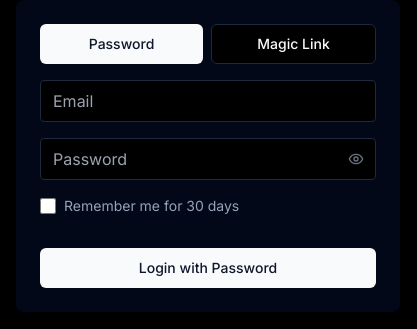
Test: Login › switches to the magic link form when the "Magic Link" button is clicked
Click the button "Magic Link".
click(294, 44)  # box [211, 24, 376, 64]
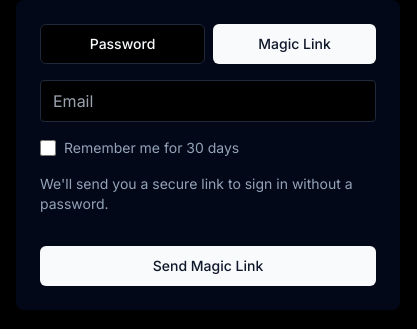
expect the button "Send Magic Link" is shown: met, box [40, 246, 376, 286]
